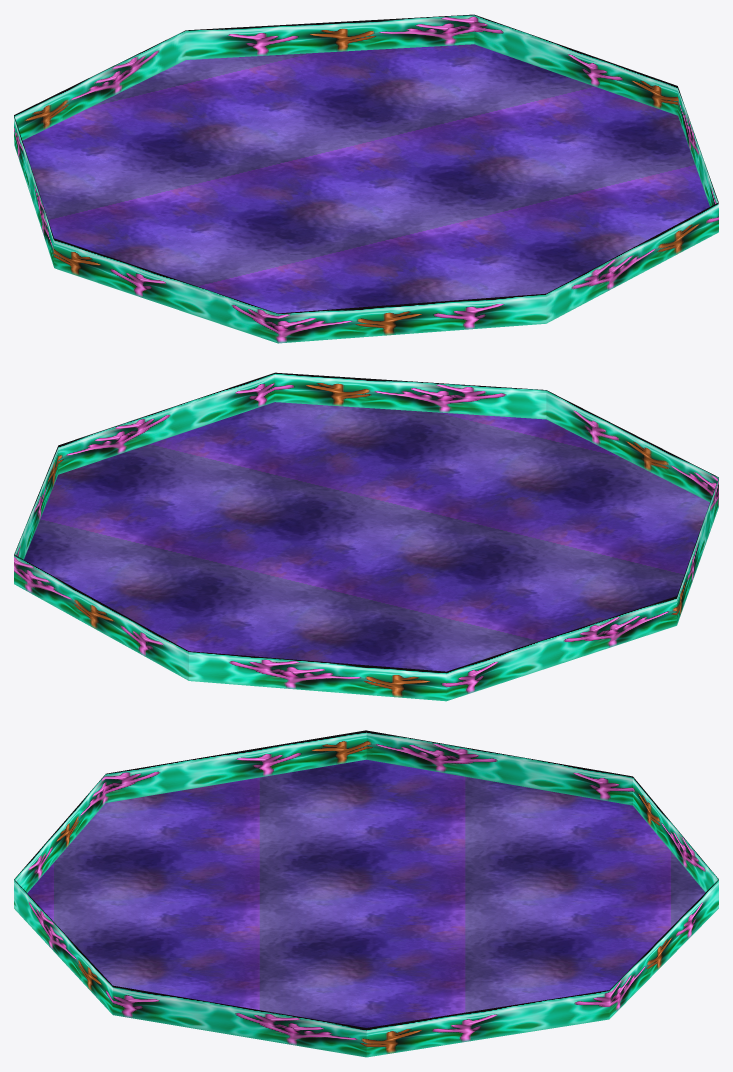
3 renders of one model, top to bottom at view 1: azimuth 30°, elevation 25°; view 2: azimuth 150°, elevation 25°; view 3: azimuth 270°, elevation 25°, orthographic. The views are drawn at different scales.
Parts seen in each view (by area): view 1: Object02; view 2: Object02; view 3: Object02.
Part boxes in pixels (x1,y1,x2,y2): Object02: (14,14,718,343); Object02: (14,372,718,701); Object02: (14,730,718,1057).
Bounding box in the file's own units: 1833 × 85.05 × 1833.
Materials: 2 (2 with a texture image).
